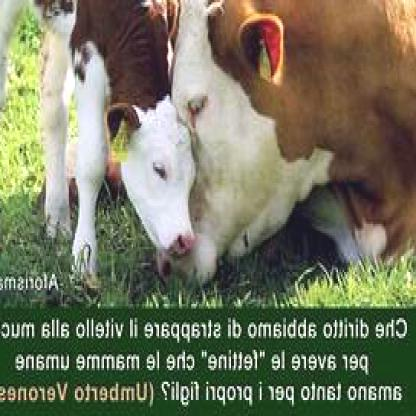cow: (151, 0, 415, 285), (1, 0, 199, 261)
